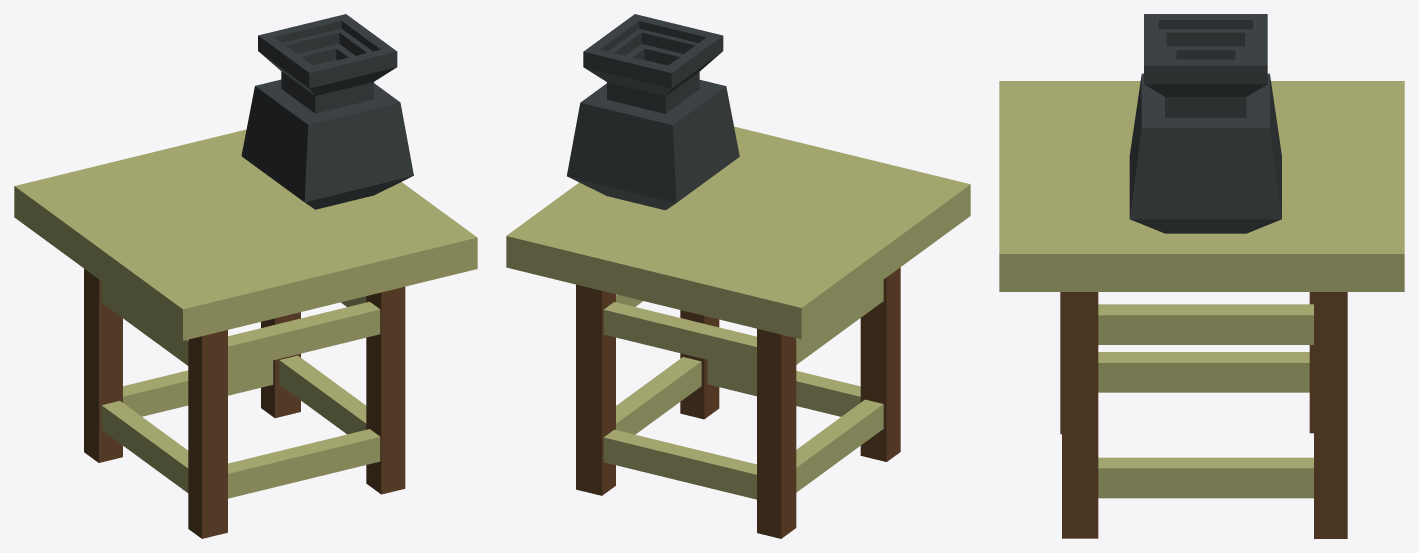
The model's file is tower 3.fbx.
The picture shows the model from 3 angles, left to right: view 1: azimuth 30°, elevation 25°; view 2: azimuth 150°, elevation 25°; view 3: azimuth 270°, elevation 25°; orthographic projection. The views are drawn at different scales.
Parts seen in each view (by area): view 1: Cube.012, Cube.013, Cube, Cube.005, Cube.011, Cube.001, Cube.002, Cube.009, Cube.003, Cube.006, Cube.010, Cube.008; view 2: Cube.012, Cube.013, Cube.011, Cube.008, Cube, Cube.006, Cube.007, Cube.009, Cube.001, Cube.003, Cube.010, Cube.005; view 3: Cube.012, Cube.013, Cube.005, Cube.003, Cube.004, Cube.009, Cube.008, Cube.011.
Boxes of the visible parts, x1=… form: Cube.012: x1=14, y1=129, x2=477, y2=340; Cube.013: x1=241, y1=14, x2=413, y2=209; Cube: x1=188, y1=330, x2=227, y2=538; Cube.005: x1=366, y1=286, x2=405, y2=494; Cube.011: x1=84, y1=268, x2=122, y2=462; Cube.001: x1=228, y1=429, x2=380, y2=498; Cube.002: x1=228, y1=301, x2=380, y2=371; Cube.009: x1=101, y1=401, x2=188, y2=492; Cube.003: x1=279, y1=355, x2=366, y2=434; Cube.006: x1=123, y1=360, x2=273, y2=416; Cube.010: x1=101, y1=281, x2=188, y2=365; Cube.008: x1=261, y1=312, x2=300, y2=418; Cube.012: x1=506, y1=126, x2=970, y2=339; Cube.013: x1=567, y1=14, x2=739, y2=210; Cube.011: x1=757, y1=329, x2=796, y2=538; Cube.008: x1=576, y1=284, x2=615, y2=495; Cube: x1=860, y1=267, x2=900, y2=461; Cube.006: x1=603, y1=429, x2=756, y2=499; Cube.007: x1=603, y1=302, x2=756, y2=371; Cube.009: x1=796, y1=399, x2=883, y2=492; Cube.001: x1=707, y1=360, x2=860, y2=416; Cube.003: x1=616, y1=357, x2=701, y2=434; Cube.010: x1=796, y1=280, x2=883, y2=364; Cube.005: x1=680, y1=310, x2=719, y2=419; Cube.012: x1=999, y1=81, x2=1404, y2=291; Cube.013: x1=1129, y1=14, x2=1281, y2=233; Cube.005: x1=1062, y1=292, x2=1098, y2=538; Cube.003: x1=1098, y1=457, x2=1313, y2=498; Cube.004: x1=1098, y1=304, x2=1313, y2=344; Cube.009: x1=1098, y1=352, x2=1309, y2=392; Cube.008: x1=1314, y1=292, x2=1347, y2=538; Cube.011: x1=1309, y1=292, x2=1313, y2=433.
Size of the model in its own units: 62.35 by 82.1 by 61.79.
